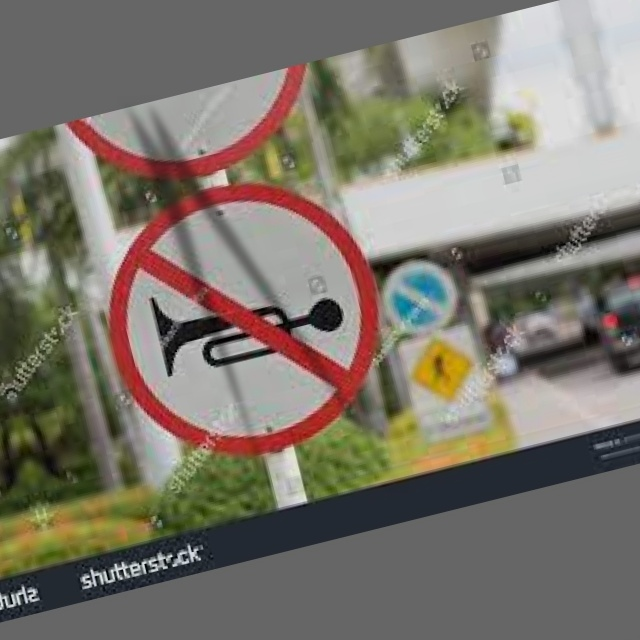Horn_Prohibited: (99, 163, 393, 471)
